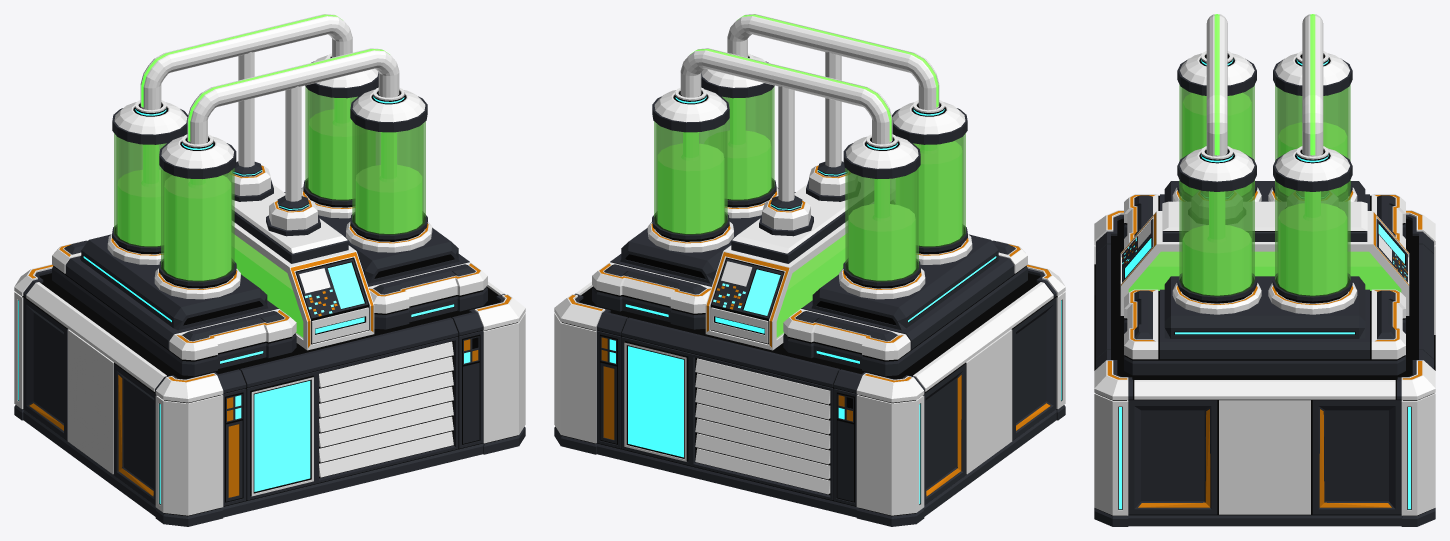
File: SM_BioChem_T2.fbx
3 renders of one model, left to right at view 1: azimuth 30°, elevation 25°; view 2: azimuth 150°, elevation 25°; view 3: azimuth 270°, elevation 25°, orthographic. The views are drawn at different scales.
Visible parts, largest first — view 1: SM_BioChem_T2; view 2: SM_BioChem_T2; view 3: SM_BioChem_T2.
Boxes of the visible parts, x1,y1,x2,y2 form: SM_BioChem_T2: (14, 14, 525, 526); SM_BioChem_T2: (554, 14, 1065, 526); SM_BioChem_T2: (1094, 14, 1435, 526).
Bounding box in the file's own units: 250 × 247 × 200.
